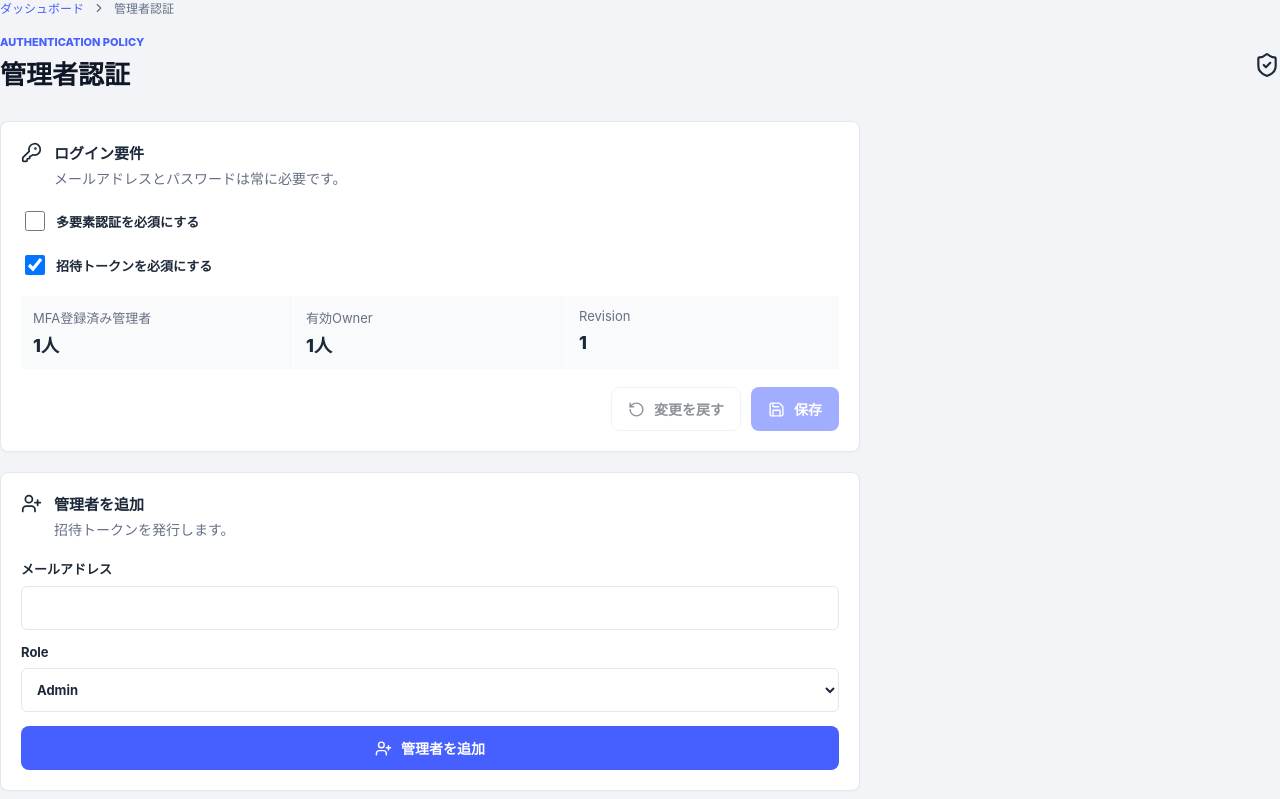
it: AdminAuthenticationSettings › switches direct creation form to invitation mode from canonical policy
Expected: the heading "管理者を追加" is shown, [54,495,144,514]
Expected: the field labelled "一時パスワード" is not shown
Type "operator@example.test" into the field labelled "メールアドレス".
click(430, 608); type("operator@example.test")  # box [21,586,839,630]
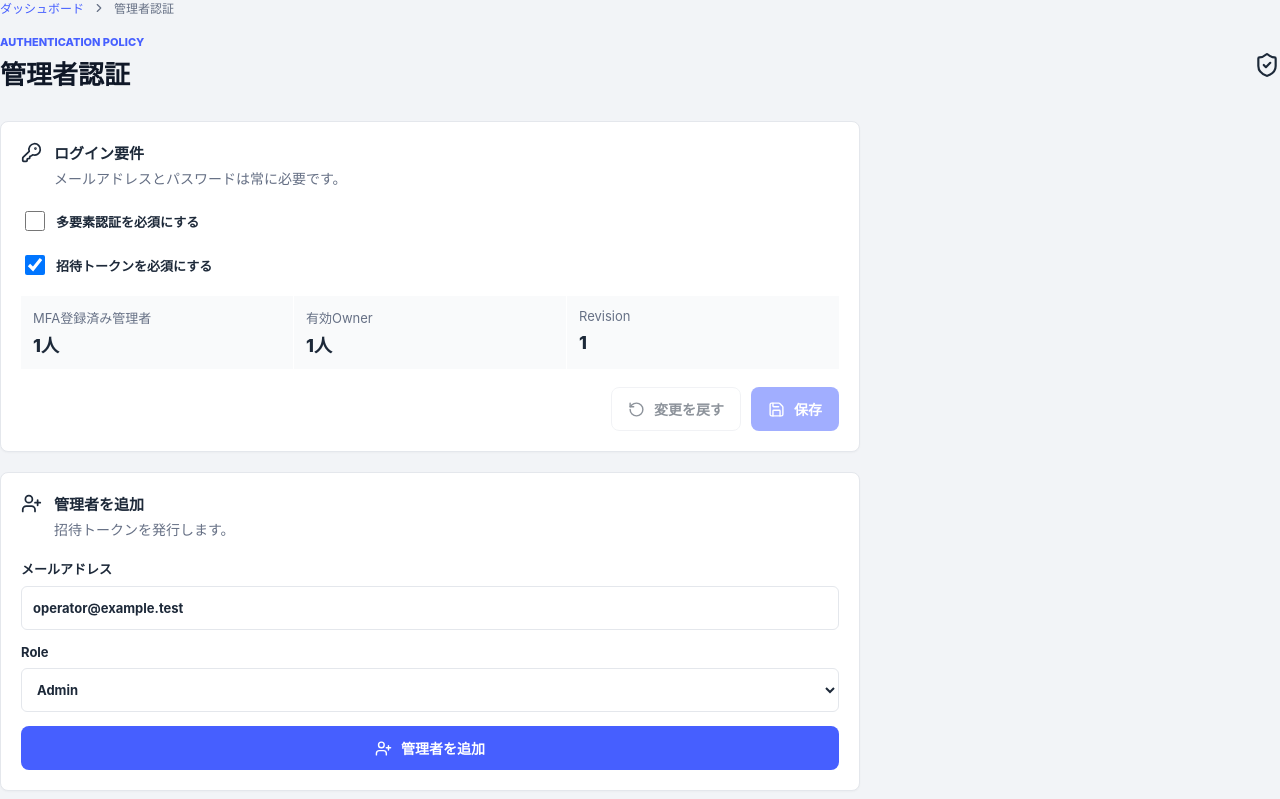
Select "Operator" in the dropdown labelled "Role" at (430, 690), box [21,668,839,712]
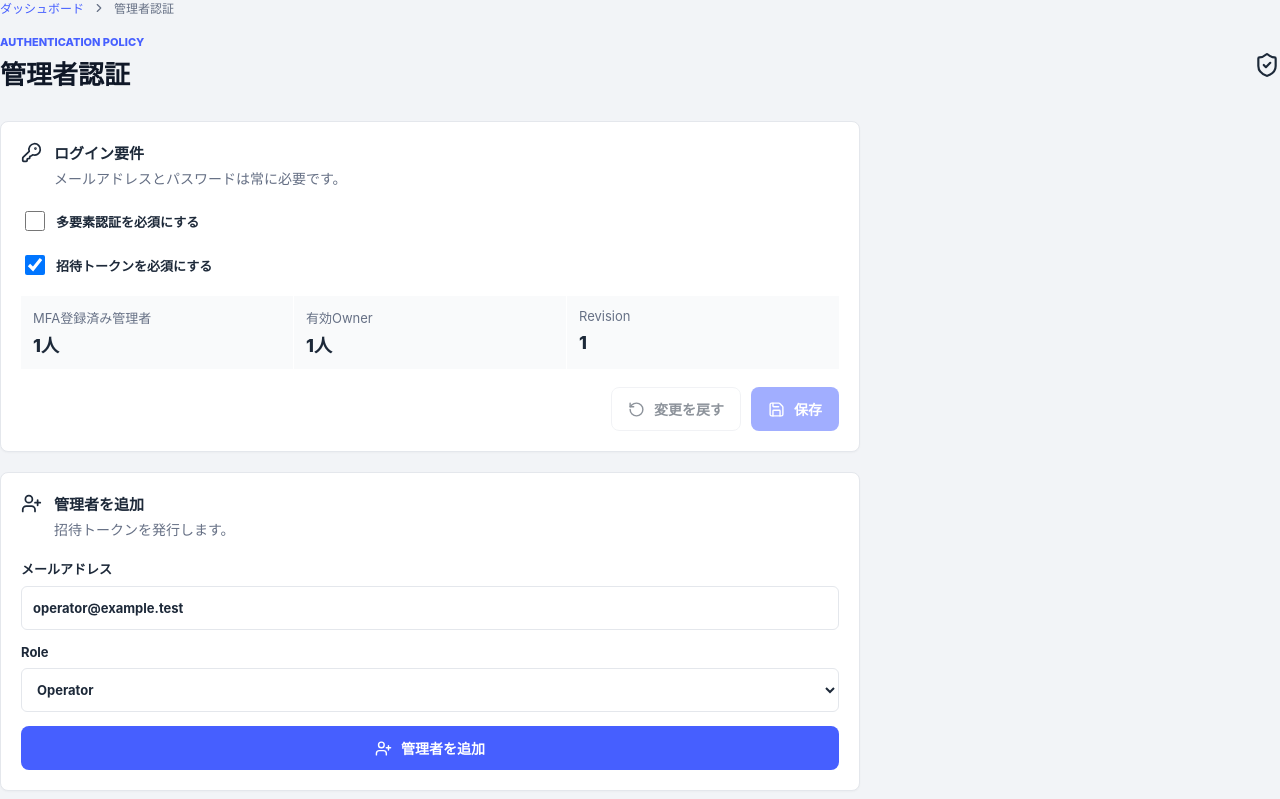
Click the button "管理者を追加".
click(430, 748)  # box [21,726,839,770]
(page scrolled)
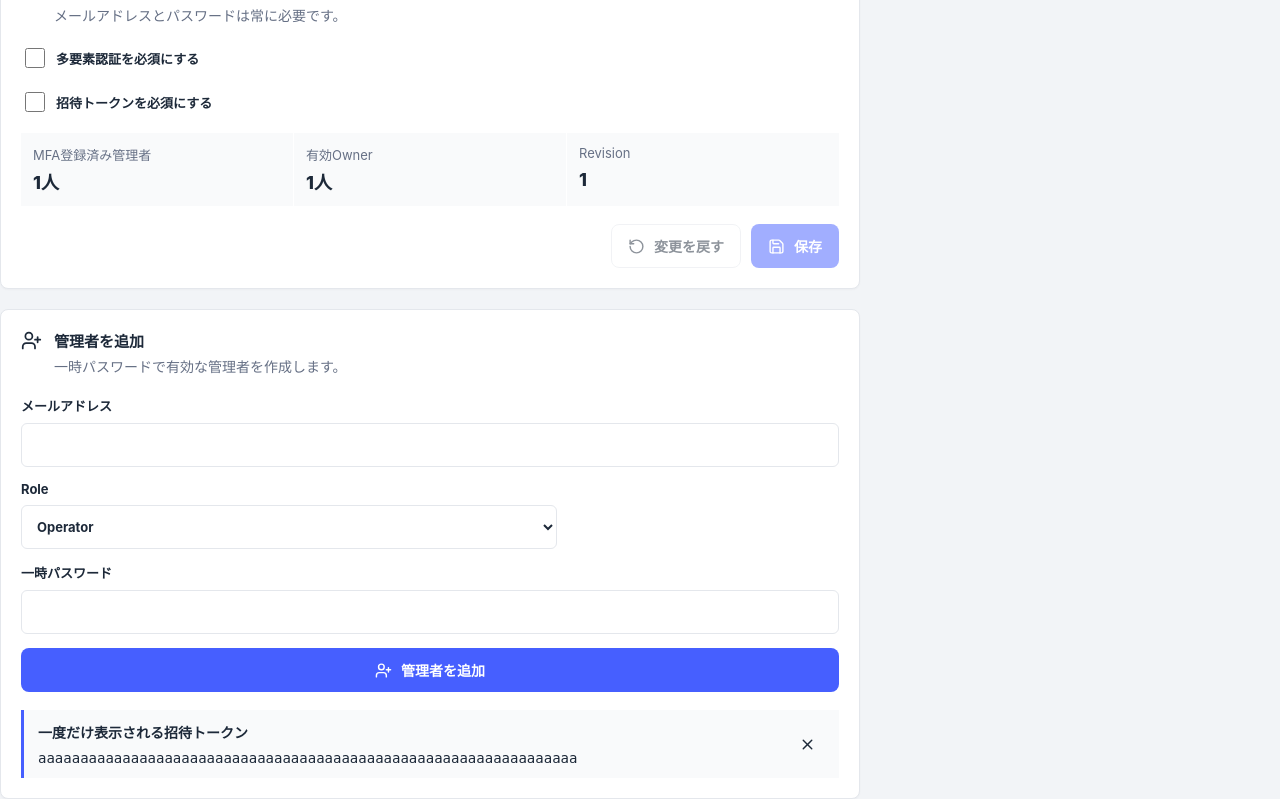
Expected: the text "aaaaaaaaaaaaaaaaaaaaaaaaaaaaaaaaaaaaaaaaaaaaaaaaaaaaaaaaaaaaaaaa" is shown, [38,750,577,766]
